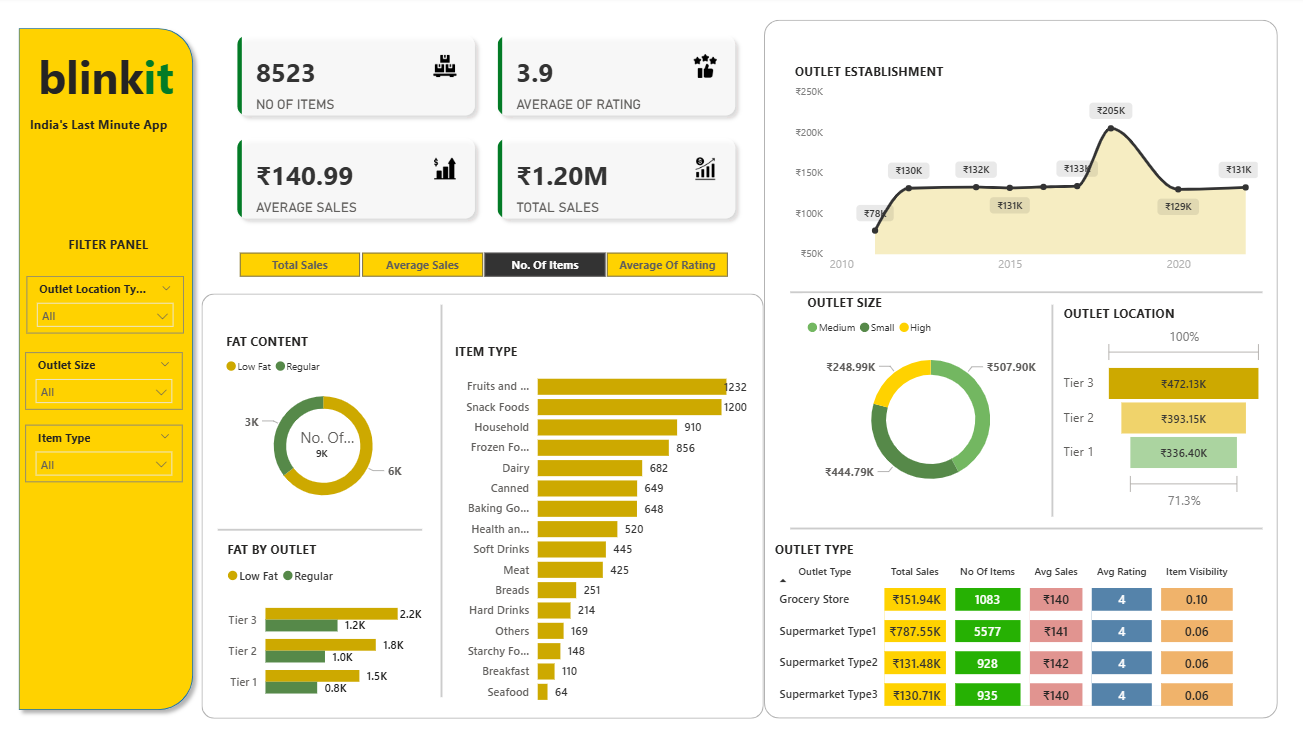

This screenshot's page, from the dashboard's own definition file:
{"tool":"powerbi","page":{"name":"Blinkit Sales Analysis","canvas":[1400,800],"ordinal":0},"visuals":[{"type":"shape","box":[12.1,25.5,205.1,749.3],"z":0},{"type":"textbox","box":[28.2,123.3,174.3,38.9],"z":1000},{"type":"textbox","box":[32.2,48.3,164.9,75.1],"z":2000},{"type":"cardVisual","fields":{"Data":["BlinkIT Grocery Data.No. Of Items","BlinkIT Grocery Data.Average Of Rating","BlinkIT Grocery Data.Average Sales","BlinkIT Grocery Data.Total Sales"]},"box":[238.6,25.5,568.4,231.9],"z":3000},{"type":"shape","box":[217.8,318.8,602.8,456],"z":4000},{"type":"donutChart","title":" FAT CONTENT ","fields":{"Y":["BlinkIT Grocery Data.No. Of Items"],"Category":["BlinkIT Grocery Data.Item Fat Content"]},"box":[238.6,360.3,218.5,198.5],"z":5000},{"type":"slicer","fields":{"Values":["Metrics .Metrics "]},"box":[231.9,268.1,573.7,38.9],"z":6000},{"type":"cardVisual","fields":{"Data":["BlinkIT Grocery Data.No. Of Items"]},"box":[292.2,445,108.6,61.7],"z":7000},{"type":"clusteredBarChart","title":"FAT BY OUTLET ","fields":{"Y":["BlinkIT Grocery Data.No. Of Items"],"Category":["BlinkIT Grocery Data.Outlet Location Type"],"Series":["BlinkIT Grocery Data.Item Fat Content"]},"box":[240.2,583.9,218.5,183.5],"z":8000},{"type":"shape","box":[235.1,558.6,219.3,26.8],"z":9000},{"type":"shape","box":[465.1,331.1,18.8,420.9],"z":10000},{"type":"barChart","title":"ITEM TYPE","fields":{"Y":["BlinkIT Grocery Data.No. Of Items"],"Category":["BlinkIT Grocery Data.Item Type"]},"box":[484.5,370.8,323.5,397.7],"z":11000},{"type":"shape","box":[820.4,25.5,550.9,749.3],"z":12000},{"type":"lineChart","title":" OUTLET ESTABLISHMENT ","fields":{"Category":["BlinkIT Grocery Data.Outlet Establishment Year"],"Y":["BlinkIT Grocery Data.Total Sales"]},"box":[849,71,506.5,235.1],"z":13000},{"type":"shape","box":[849,304.6,506.5,26.8],"z":14000},{"type":"donutChart","title":"OUTLET SIZE ","fields":{"Y":["BlinkIT Grocery Data.Total Sales"],"Category":["BlinkIT Grocery Data.Outlet Size"]},"box":[861.9,319,274.8,225.2],"z":15000},{"type":"shape","box":[1123.6,331.4,12.6,227.2],"z":16000},{"type":"funnel","title":" OUTLET LOCATION ","fields":{"Y":["BlinkIT Grocery Data.Total Sales"],"Category":["BlinkIT Grocery Data.Outlet Location Type"]},"box":[1136.2,331.4,224.1,225.7],"z":17000},{"type":"shape","box":[849,557,506.5,26.8],"z":18000},{"type":"pivotTable","title":"OUTLET TYPE ","fields":{"Rows":["BlinkIT Grocery Data.Outlet Type"],"Values":["BlinkIT Grocery Data.Total Sales","BlinkIT Grocery Data.No. Of Items","BlinkIT Grocery Data.Average Sales","BlinkIT Grocery Data.Average Of Rating","Avg(BlinkIT Grocery Data.Item Visibility)"]},"box":[826.9,583.9,533.4,183.1],"z":19000},{"type":"slicer","fields":{"Values":["BlinkIT Grocery Data.Outlet Location Type"]},"box":[30,300.3,168.5,61.7],"z":20000},{"type":"slicer","fields":{"Values":["BlinkIT Grocery Data.Outlet Size"]},"box":[28.4,382,168.5,61.7],"z":21000},{"type":"slicer","fields":{"Values":["BlinkIT Grocery Data.Item Type"]},"box":[28.4,460.4,168.5,61.7],"z":22000},{"type":"shape","title":"FILTER PANEL ","box":[31.7,256.9,170.2,21.7],"z":23000}]}

Visuals, with their boxes in screenshot pixels (x1, y1, x2, y2), scaled from the page's 1400x800 canvas onto the 1303x737 screenshot:
shape: rect(11, 23, 202, 714)
textbox: rect(26, 114, 188, 149)
textbox: rect(30, 44, 183, 114)
cardVisual - BlinkIT Grocery Data.No. Of Items x BlinkIT Grocery Data.Average Of Rating: rect(222, 23, 751, 237)
shape: rect(203, 294, 764, 714)
" FAT CONTENT " donutChart: rect(222, 332, 425, 515)
slicer - Metrics .Metrics : rect(216, 247, 750, 283)
cardVisual - BlinkIT Grocery Data.No. Of Items: rect(272, 410, 373, 467)
"FAT BY OUTLET " clusteredBarChart: rect(224, 538, 427, 707)
shape: rect(219, 515, 423, 539)
shape: rect(433, 305, 450, 693)
"ITEM TYPE" barChart: rect(451, 342, 752, 708)
shape: rect(764, 23, 1276, 714)
" OUTLET ESTABLISHMENT " lineChart: rect(790, 65, 1262, 282)
shape: rect(790, 281, 1262, 305)
"OUTLET SIZE " donutChart: rect(802, 294, 1058, 501)
shape: rect(1046, 305, 1057, 515)
" OUTLET LOCATION " funnel: rect(1057, 305, 1266, 513)
shape: rect(790, 513, 1262, 538)
"OUTLET TYPE " pivotTable: rect(770, 538, 1266, 707)
slicer - BlinkIT Grocery Data.Outlet Location Type: rect(28, 277, 185, 333)
slicer - BlinkIT Grocery Data.Outlet Size: rect(26, 352, 183, 409)
slicer - BlinkIT Grocery Data.Item Type: rect(26, 424, 183, 481)
"FILTER PANEL " shape: rect(30, 237, 188, 257)
